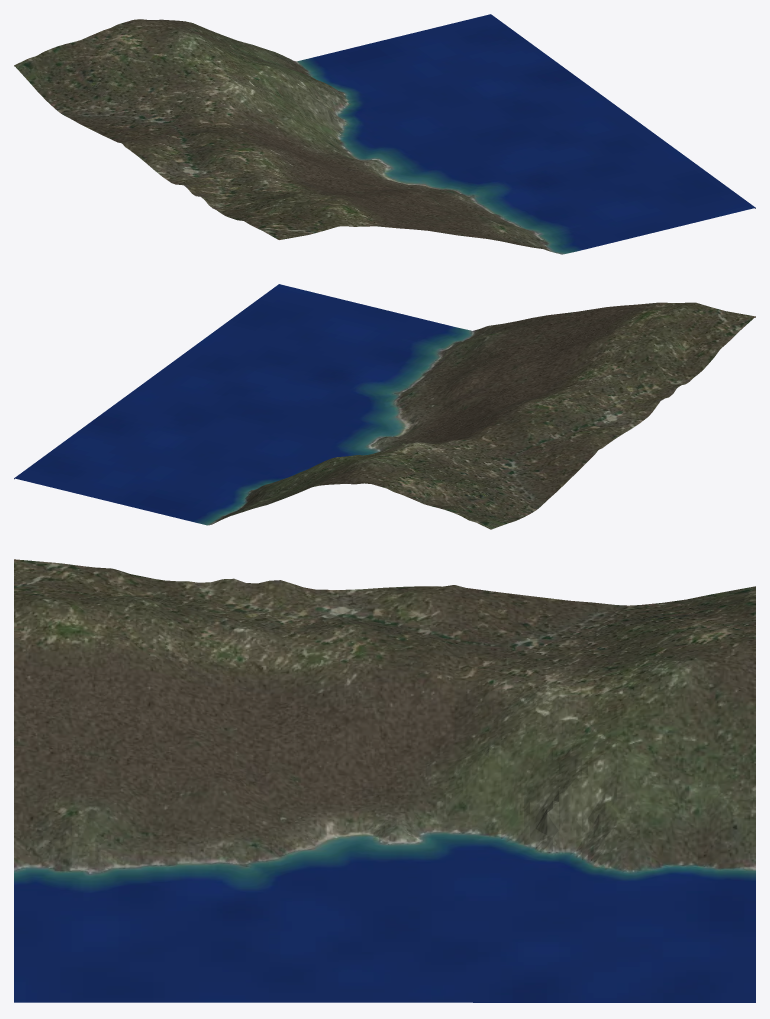
3 renders of one model, top to bottom at view 1: azimuth 30°, elevation 25°; view 2: azimuth 150°, elevation 25°; view 3: azimuth 270°, elevation 25°, orthographic. The views are drawn at different scales.
Bounding box in the file's own units: 1000 × 173 × 963.
Materials: 1 (1 with a texture image).
